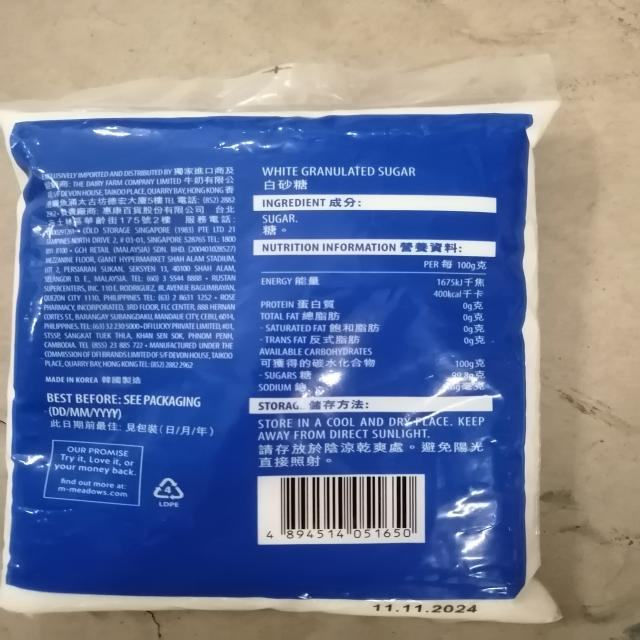object_name: (5, 110, 556, 619)
